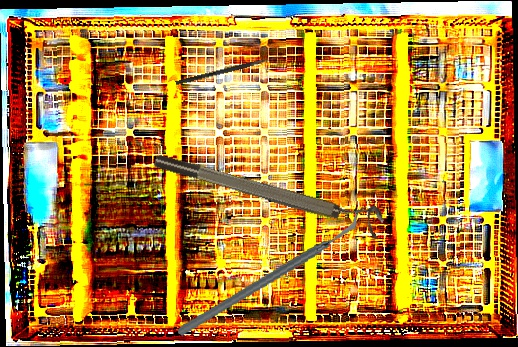Chopper: (164, 208, 375, 339)
Fixation Ring: (152, 140, 387, 240)
Hook Surgical: (175, 52, 284, 87)
